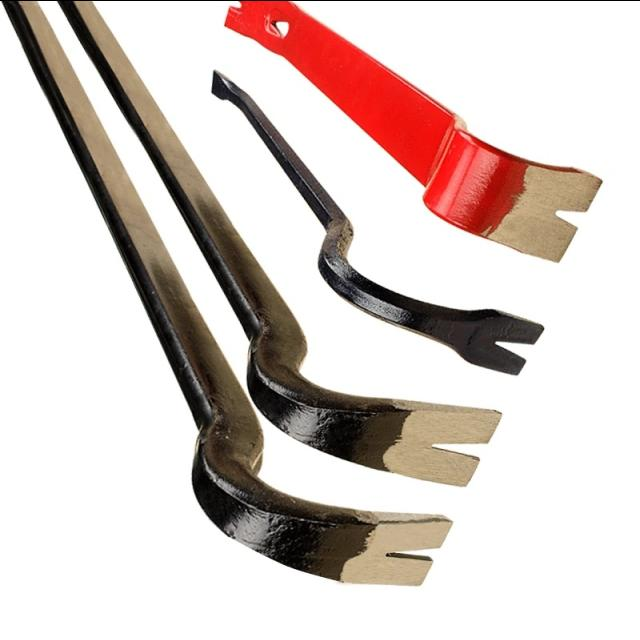Linggis: (210, 4, 544, 374)
